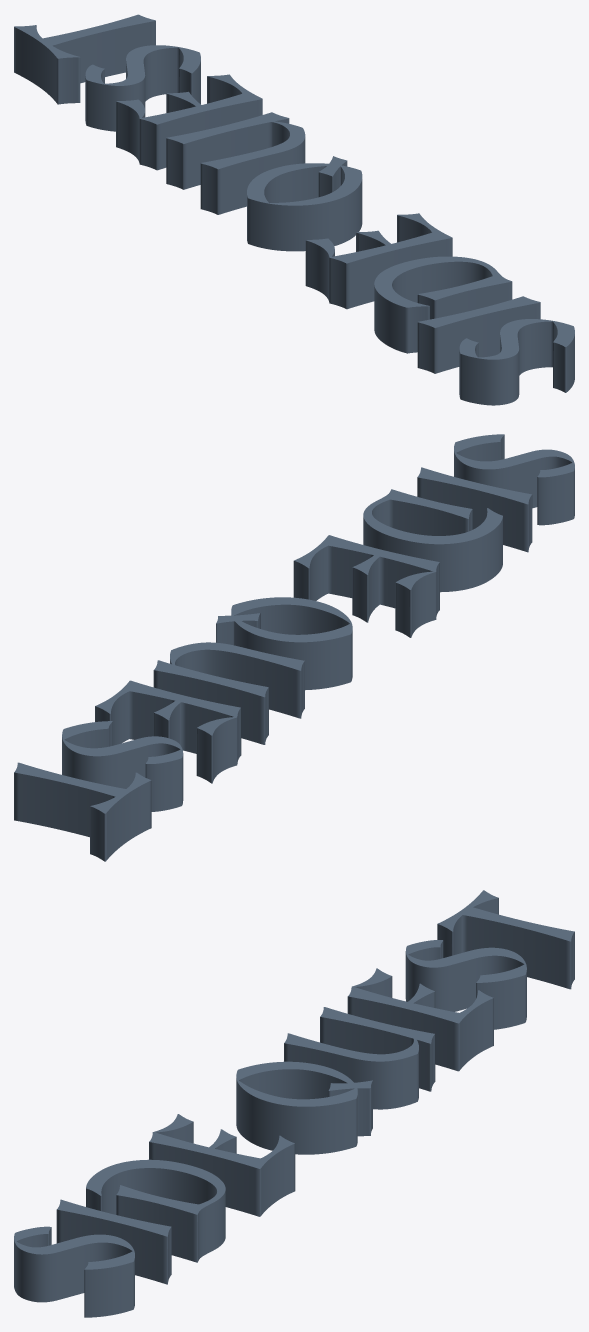
Rendered from sideQuestText.glb.
3 renders of one model, top to bottom at view 1: azimuth 30°, elevation 25°; view 2: azimuth 150°, elevation 25°; view 3: azimuth 330°, elevation 25°, orthographic. The views are drawn at different scales.
Parts seen in each view (by area): view 1: sidequestText; view 2: sidequestText; view 3: sidequestText.
Boxes of the visible parts, x1,y1,x2,y2 form: sidequestText: (14,14,574,405); sidequestText: (14,434,574,861); sidequestText: (14,890,574,1317).
Size of the model in its own units: 0.2014 by 0.0779 by 1.44.
